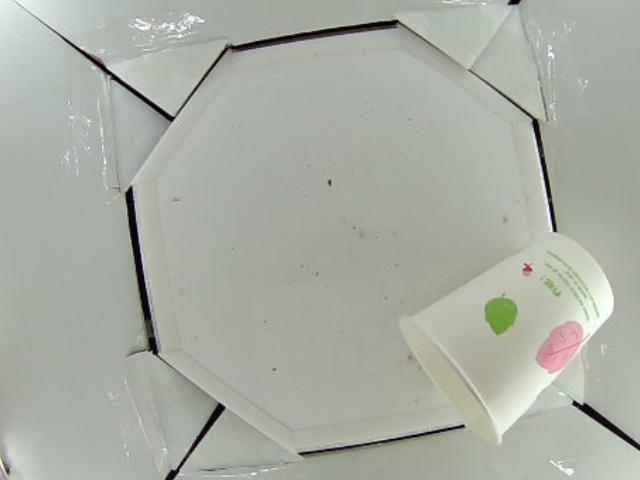Cup: (398, 230, 618, 445)
